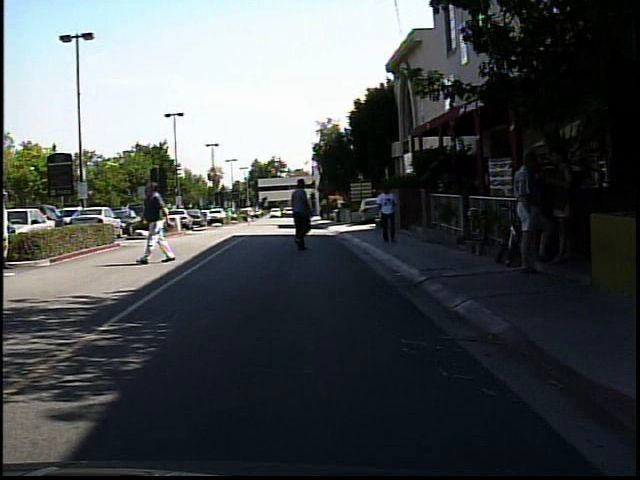person: (511, 142, 553, 277), (543, 144, 580, 270), (284, 174, 325, 253), (142, 178, 176, 269), (372, 179, 403, 247), (2, 183, 23, 273), (158, 199, 175, 231), (243, 204, 258, 228)
